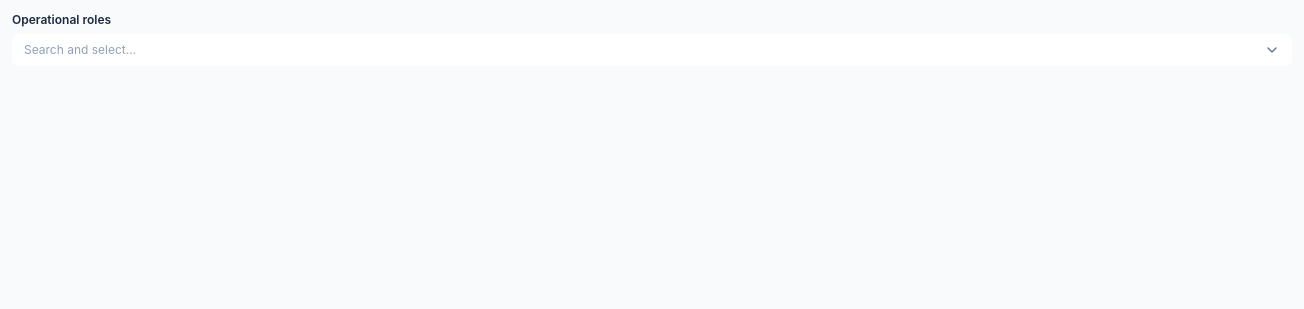
Test: SearchableMultiSelect accessibility and interaction › opens the disclosure and moves focus to its labelled search field
Click the button "Search and select...": (80, 50) top-left (12, 34), bottom-right (1292, 66)
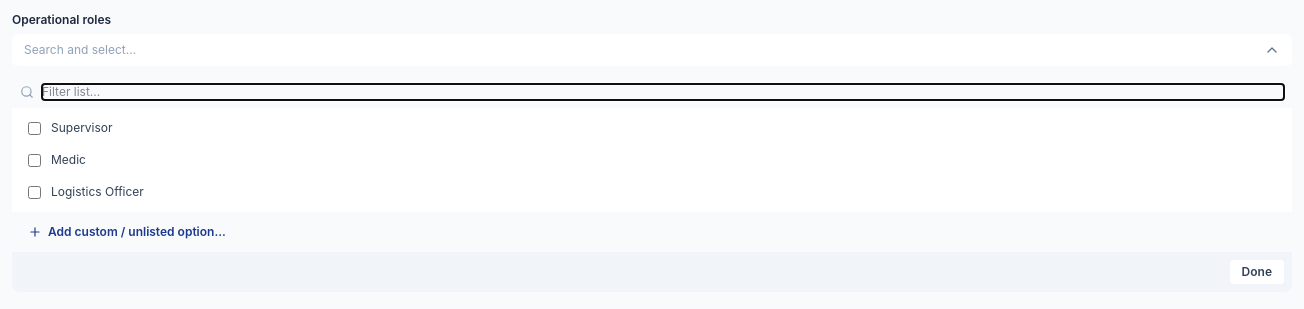
Expected: the button "Search and select..." is expanded, top-left (12, 34), bottom-right (1292, 66)
Expected: the element that starts with "Supervisor" is shown
